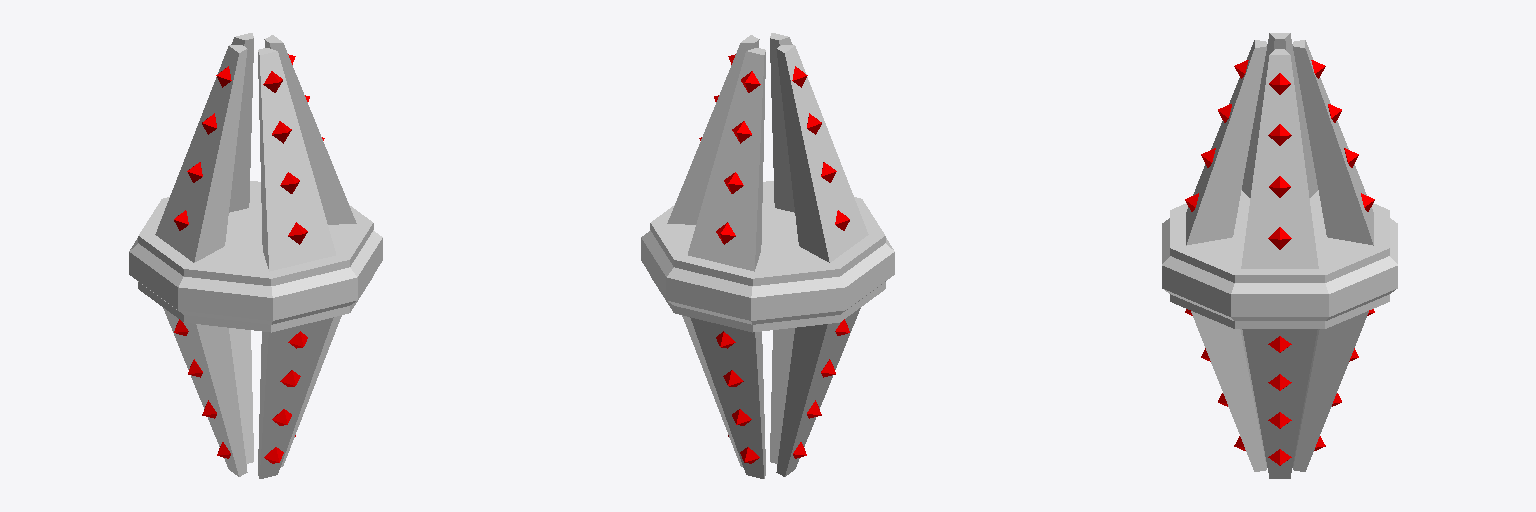
File: ship4.obj
3 renders of one model, left to right at view 1: azimuth 30°, elevation 25°; view 2: azimuth 150°, elevation 25°; view 3: azimuth 270°, elevation 25°, orthographic.
Parts seen in each view (by area): view 1: ship4_cylinder.001; view 2: ship4_cylinder.001; view 3: ship4_cylinder.001.
Boxes of the visible parts, x1=… form: ship4_cylinder.001: x1=129, y1=33, x2=382, y2=478; ship4_cylinder.001: x1=641, y1=33, x2=894, y2=478; ship4_cylinder.001: x1=1162, y1=33, x2=1397, y2=478.
Size of the model in its own units: 1.36 by 2.69 by 1.36.